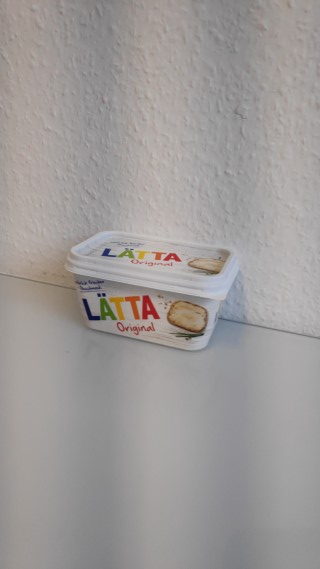laetta: (64, 229, 241, 353)
